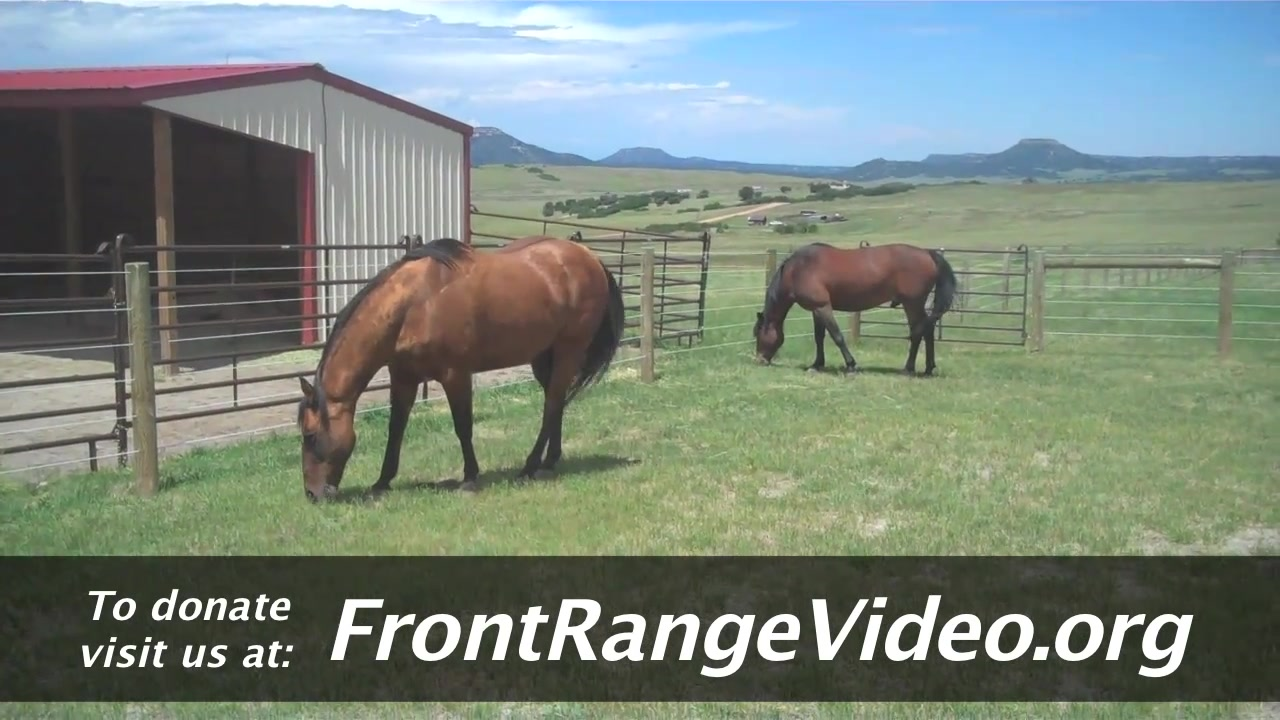horse: (298, 235, 627, 508), (750, 243, 960, 376)
